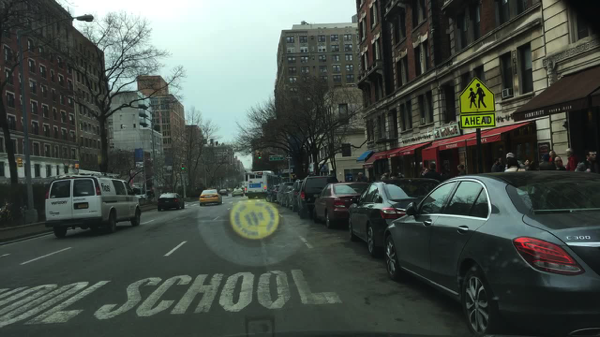car: (383, 172, 599, 336), (347, 176, 439, 260), (43, 177, 141, 238), (311, 183, 370, 230), (296, 176, 337, 221), (156, 192, 185, 211), (276, 181, 292, 209), (290, 178, 303, 210), (280, 187, 296, 212), (198, 189, 221, 206), (266, 183, 279, 202), (231, 187, 243, 197), (219, 188, 228, 195)
person: (574, 150, 598, 174), (563, 147, 579, 173), (503, 149, 524, 168), (535, 154, 552, 173), (425, 163, 441, 183), (501, 160, 525, 172), (551, 157, 566, 171), (440, 162, 449, 181), (521, 157, 531, 174), (546, 147, 557, 162), (356, 171, 369, 183), (454, 164, 466, 176), (496, 156, 504, 173), (530, 160, 539, 173), (387, 172, 403, 179), (379, 169, 388, 181), (419, 167, 427, 179), (491, 157, 497, 172)
traffic light: (179, 163, 185, 173), (17, 157, 23, 167), (74, 162, 79, 170), (258, 153, 261, 162)
traffic sign: (459, 77, 495, 113), (460, 115, 495, 130), (134, 147, 146, 168), (268, 154, 286, 162), (280, 169, 294, 175), (346, 174, 352, 182), (286, 156, 293, 162)
truck: (242, 169, 276, 199)
